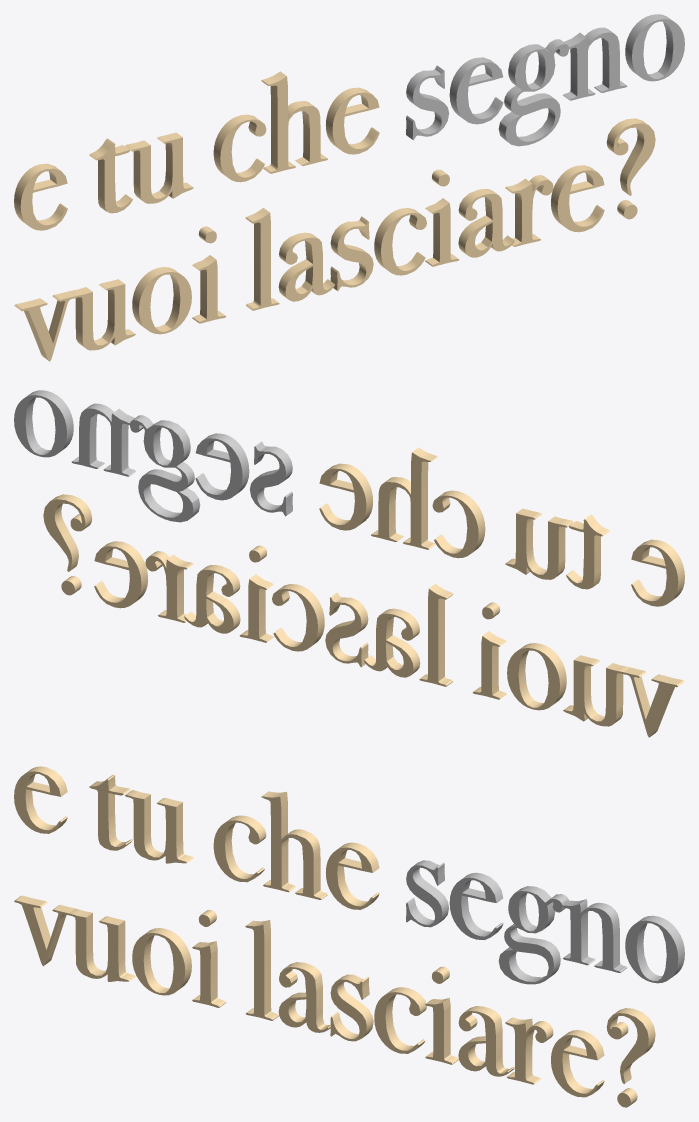
The model's file is scritta_bkp.obj.
3 renders of one model, top to bottom at view 1: azimuth 30°, elevation 25°; view 2: azimuth 150°, elevation 25°; view 3: azimuth 330°, elevation 25°, orthographic.
Visible parts, largest first — view 1: Mesh2 Group1 Model, Mesh21 Group2 Model, Mesh16 Group2 Model, Mesh17 Group2 Model, Mesh11 Group2 Model, Mesh15 Group2 Model, Mesh22 Group2 Model, Mesh4 Group1 Model, Mesh19 Group2 Model, Mesh5 Group2 Model, Mesh7 Group2 Model, Mesh3 Group1 Model (+10 smaller); view 2: Mesh2 Group1 Model, Mesh21 Group2 Model, Mesh16 Group2 Model, Mesh17 Group2 Model, Mesh11 Group2 Model, Mesh15 Group2 Model, Mesh22 Group2 Model, Mesh4 Group1 Model, Mesh19 Group2 Model, Mesh5 Group2 Model, Mesh7 Group2 Model, Mesh3 Group1 Model (+10 smaller); view 3: Mesh2 Group1 Model, Mesh21 Group2 Model, Mesh16 Group2 Model, Mesh17 Group2 Model, Mesh22 Group2 Model, Mesh4 Group1 Model, Mesh11 Group2 Model, Mesh15 Group2 Model, Mesh19 Group2 Model, Mesh3 Group1 Model, Mesh7 Group2 Model, Mesh5 Group2 Model (+10 smaller).
Part boxes in pixels (bbox=[...]): Mesh2 Group1 Model: bbox=[498, 27, 627, 146]; Mesh21 Group2 Model: bbox=[14, 279, 135, 361]; Mesh16 Group2 Model: bbox=[261, 71, 327, 173]; Mesh17 Group2 Model: bbox=[125, 132, 193, 203]; Mesh11 Group2 Model: bbox=[458, 189, 514, 257]; Mesh15 Group2 Model: bbox=[278, 232, 334, 301]; Mesh22 Group2 Model: bbox=[132, 267, 191, 334]; Mesh4 Group1 Model: bbox=[625, 14, 684, 81]; Mesh19 Group2 Model: bbox=[14, 163, 67, 230]; Mesh5 Group2 Model: bbox=[325, 87, 379, 154]; Mesh7 Group2 Model: bbox=[551, 165, 604, 232]; Mesh3 Group1 Model: bbox=[449, 57, 503, 124]; Mesh2 Group1 Model: bbox=[71, 403, 200, 522]; Mesh21 Group2 Model: bbox=[563, 655, 684, 737]; Mesh16 Group2 Model: bbox=[371, 447, 437, 549]; Mesh17 Group2 Model: bbox=[505, 508, 573, 579]; Mesh11 Group2 Model: bbox=[184, 565, 240, 633]; Mesh15 Group2 Model: bbox=[364, 608, 420, 677]; Mesh22 Group2 Model: bbox=[507, 643, 566, 710]; Mesh4 Group1 Model: bbox=[14, 390, 73, 457]; Mesh19 Group2 Model: bbox=[631, 539, 684, 606]; Mesh5 Group2 Model: bbox=[319, 463, 373, 530]; Mesh7 Group2 Model: bbox=[94, 541, 147, 608]; Mesh3 Group1 Model: bbox=[195, 433, 249, 500]; Mesh2 Group1 Model: bbox=[498, 886, 627, 984]; Mesh21 Group2 Model: bbox=[14, 895, 135, 981]; Mesh16 Group2 Model: bbox=[261, 791, 327, 899]; Mesh17 Group2 Model: bbox=[125, 790, 193, 863]; Mesh22 Group2 Model: bbox=[132, 928, 191, 995]; Mesh4 Group1 Model: bbox=[625, 915, 684, 983]; Mesh11 Group2 Model: bbox=[458, 1006, 514, 1076]; Mesh15 Group2 Model: bbox=[278, 962, 330, 1032]; Mesh19 Group2 Model: bbox=[14, 766, 67, 833]; Mesh3 Group1 Model: bbox=[449, 872, 503, 940]; Mesh7 Group2 Model: bbox=[551, 1030, 604, 1097]; Mesh5 Group2 Model: bbox=[326, 842, 379, 909].
Size of the model in its own units: 142 by 46.62 by 2.5.
